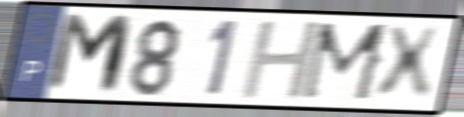1: (205, 18, 240, 99)
8: (126, 15, 184, 98)
H: (237, 19, 326, 102)
M: (43, 11, 138, 97), (297, 20, 394, 104)
X: (373, 25, 444, 104)
